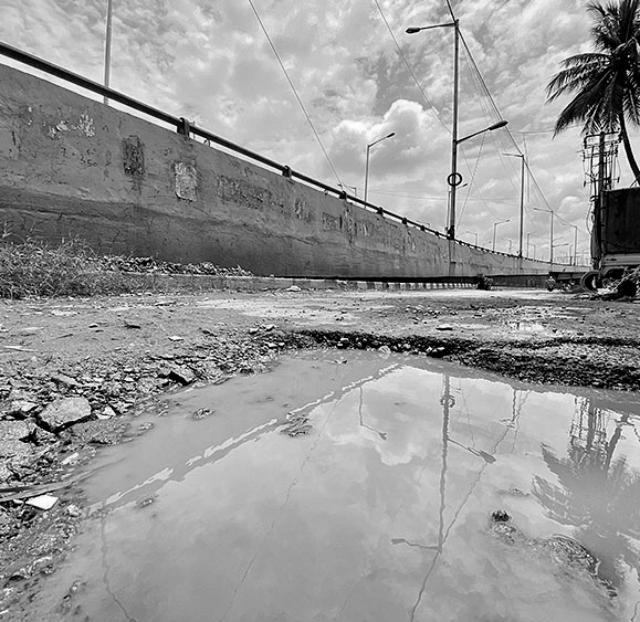Pothole: (0, 322, 640, 622)
